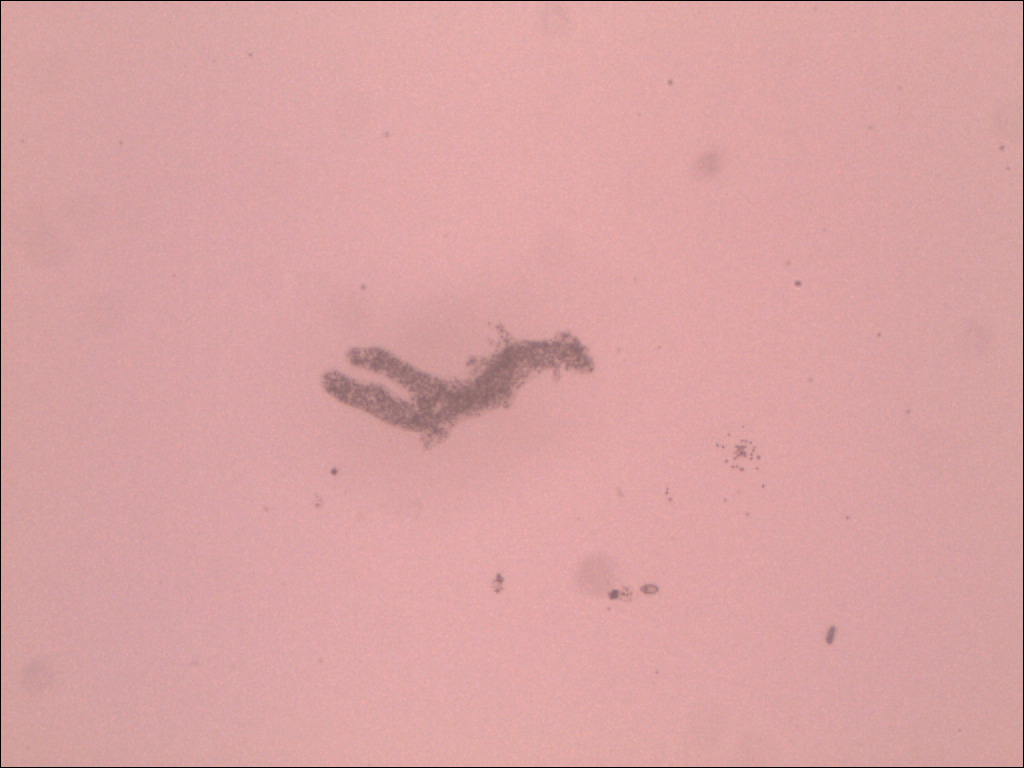amoeba: (310, 316, 614, 456)
